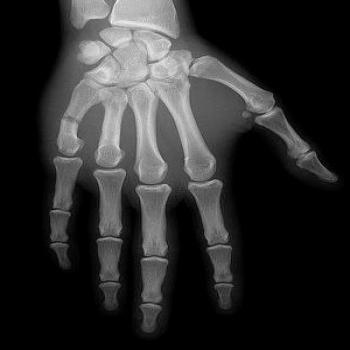Fracture: (55, 110, 92, 128)
